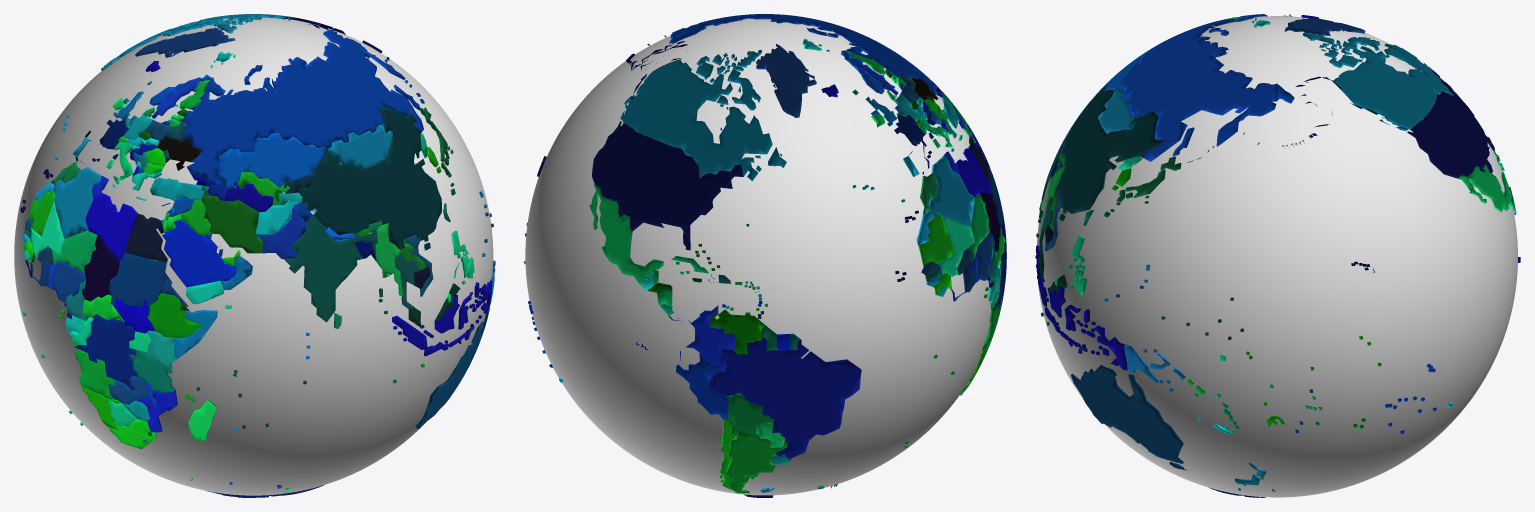
The model's file is planet_lod_1.gltf.
3 renders of one model, left to right at view 1: azimuth 30°, elevation 25°; view 2: azimuth 150°, elevation 25°; view 3: azimuth 270°, elevation 25°, orthographic.
Visible parts, largest first — view 1: _Water, RU.011, CN.002, IN, KZ, SA, CD, SD, IR, DZ, LY, MN (+33 smaller); view 2: _Water, BR, US.007, CA, RU.011, MX, GL, AR, DZ, PE, CO, VE (+10 smaller); view 3: _Water, RU.011, CN.002, CA, AU, US.007, MX, MN, GL, ID.023.
Part boxes in pixels (box(x1,y1,x2,y2)): _Water: box(14, 17, 493, 495); RU.011: box(181, 32, 423, 186); CN.002: box(298, 106, 441, 249); IN: box(284, 215, 377, 322); KZ: box(218, 133, 324, 189); SA: box(162, 219, 236, 287); CD: box(75, 314, 137, 390); SD: box(109, 252, 168, 310); IR: box(201, 191, 263, 253); DZ: box(53, 167, 101, 238); LY: box(85, 193, 137, 261); MN: box(327, 124, 392, 169); _Water: box(525, 18, 991, 495); BR: box(709, 337, 861, 460); US.007: box(592, 121, 743, 250); CA: box(622, 58, 772, 181); RU.011: box(670, 14, 938, 94); MX: box(589, 184, 663, 285); GL: box(756, 44, 816, 117); AR: box(727, 431, 787, 491); DZ: box(928, 155, 974, 226); PE: box(676, 353, 728, 420); CO: box(686, 305, 734, 371); VE: box(710, 309, 765, 354); _Water: box(1037, 16, 1517, 497); RU.011: box(1118, 19, 1277, 161); CN.002: box(1054, 86, 1163, 213); CA: box(1331, 43, 1454, 129); AU: box(1071, 365, 1183, 463); US.007: box(1407, 70, 1494, 178); MX: box(1458, 164, 1512, 212); MN: box(1098, 87, 1137, 133); GL: box(1284, 17, 1365, 35); ID.023: box(1094, 325, 1127, 370).
Size of the model in its own units: 4.02 by 4.04 by 4.03.
